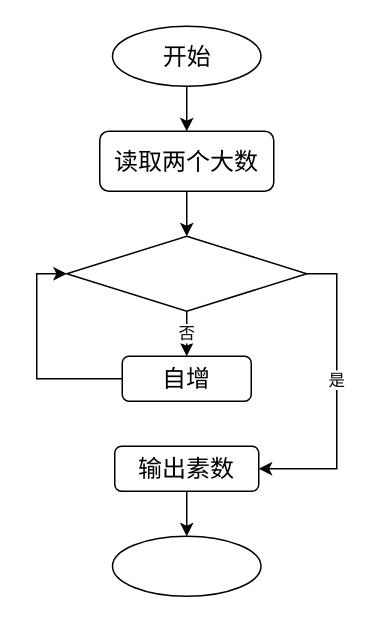
The diagram is 375 pixels wide and 623 high, and some of its shapes have lost their labels. The box of each missing label's shape, as (x1, y1, x2, y2) in pixels:
判断 isPrime(): (65, 235, 307, 311)
结束: (111, 535, 261, 596)
